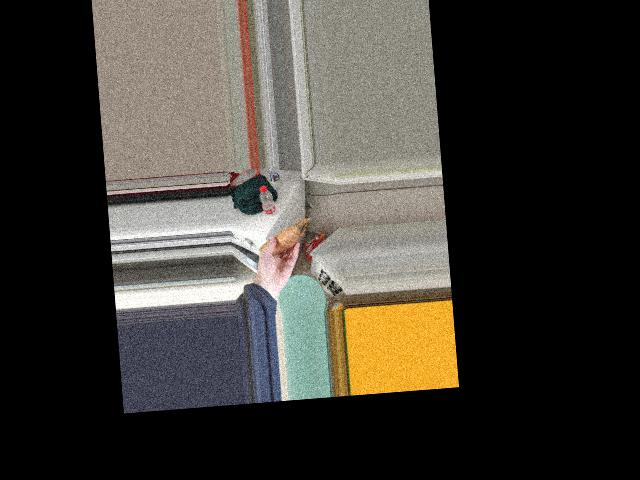sweet_potato: (263, 227, 298, 258)
